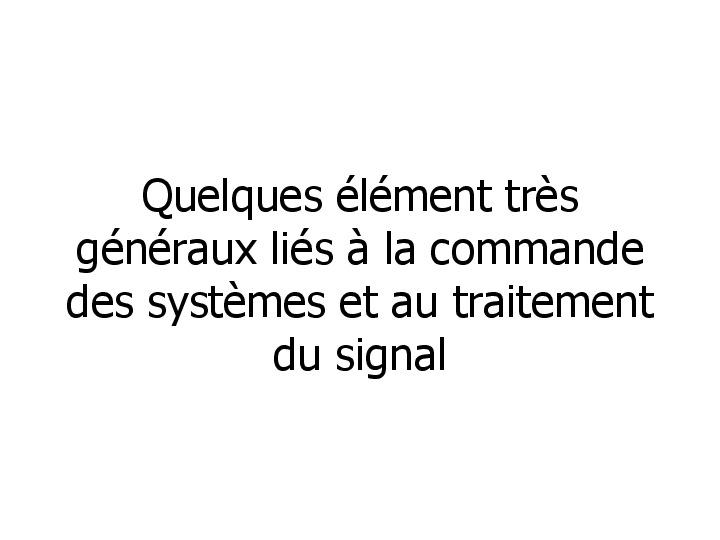title: (49, 122, 687, 413)
